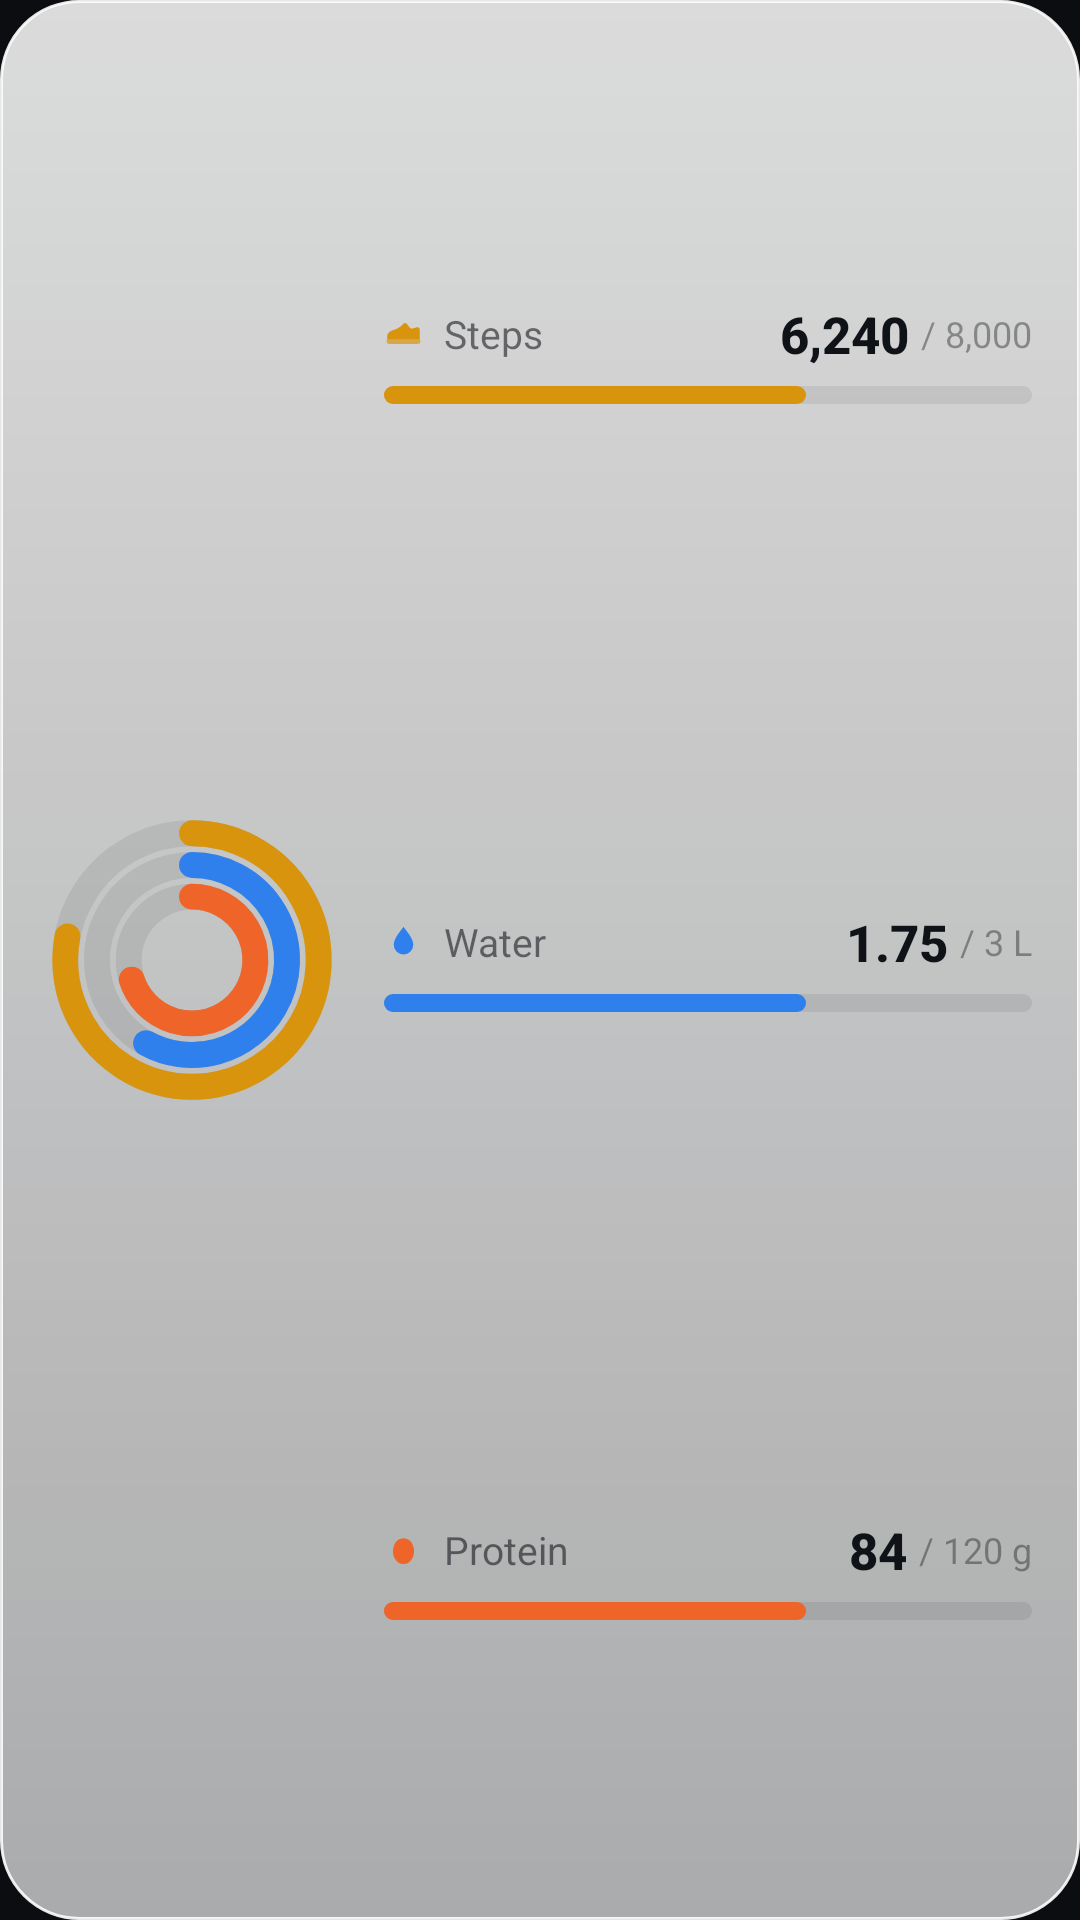

Where to tap for icons on this 1080px×1920px app screen, as (x,y):
widget drop: (403,941)
widget rings: (192,960)
widget shoe: (403,333)
